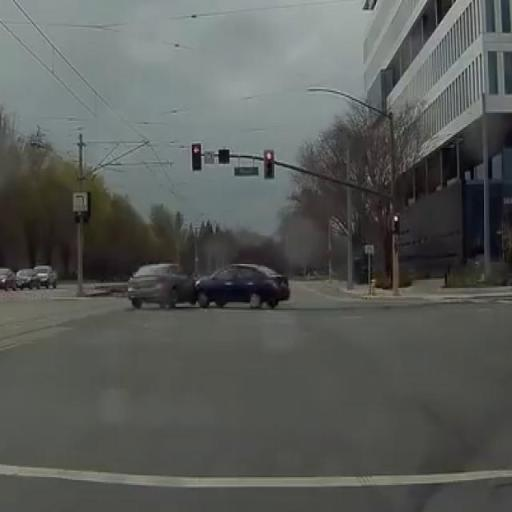小汽车: (29, 260, 61, 291)
小汽车撞小汽车: (125, 258, 293, 314)
